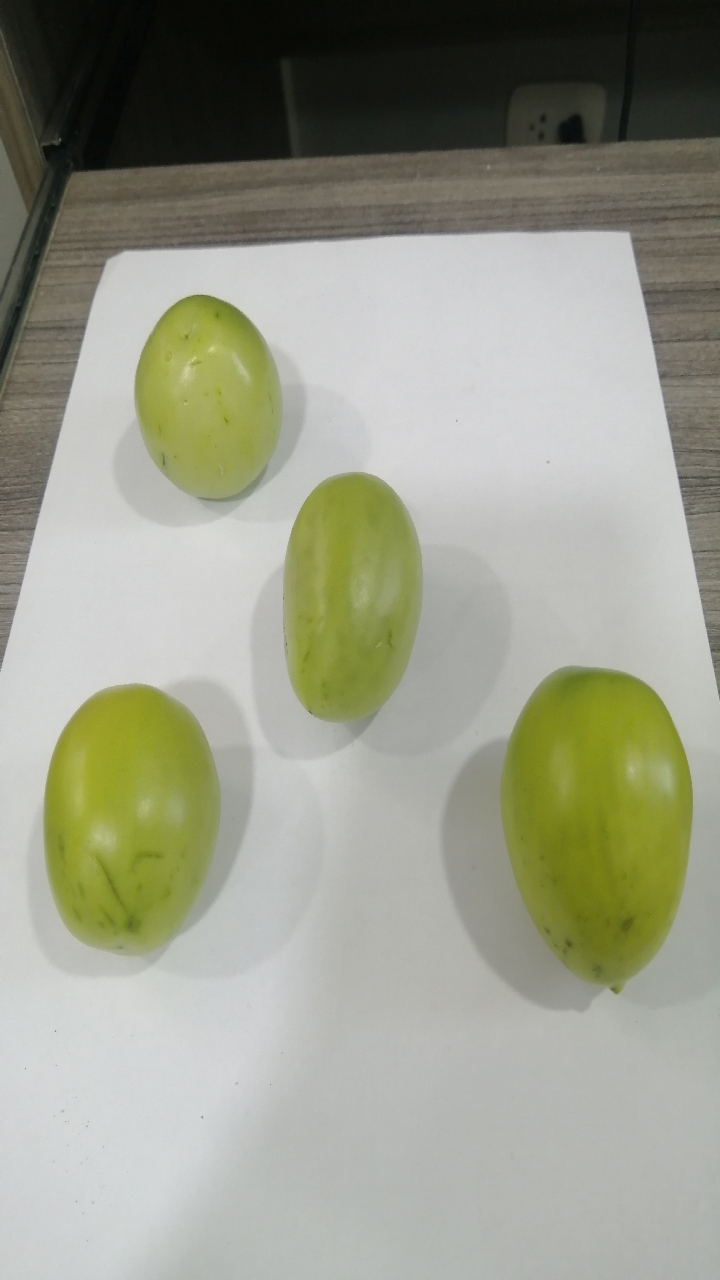tomateVerde: (481, 648, 701, 1022), (15, 669, 241, 972), (251, 463, 444, 735), (104, 279, 317, 522)
